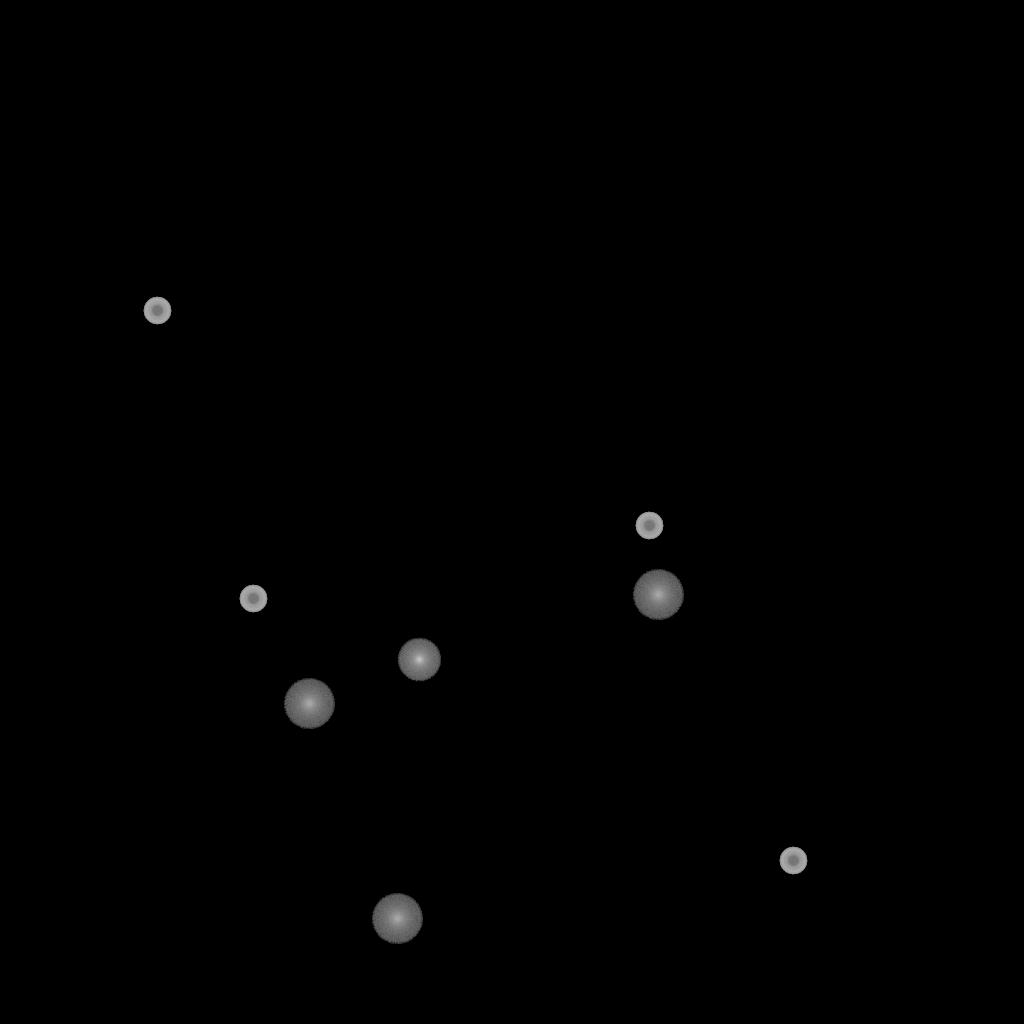depth:-50: (635, 512, 663, 540), (779, 847, 807, 875), (143, 297, 171, 325), (239, 585, 267, 613)
depth:10: (397, 638, 441, 682)
depth:20: (632, 570, 684, 620), (283, 679, 335, 729), (371, 894, 423, 944)
